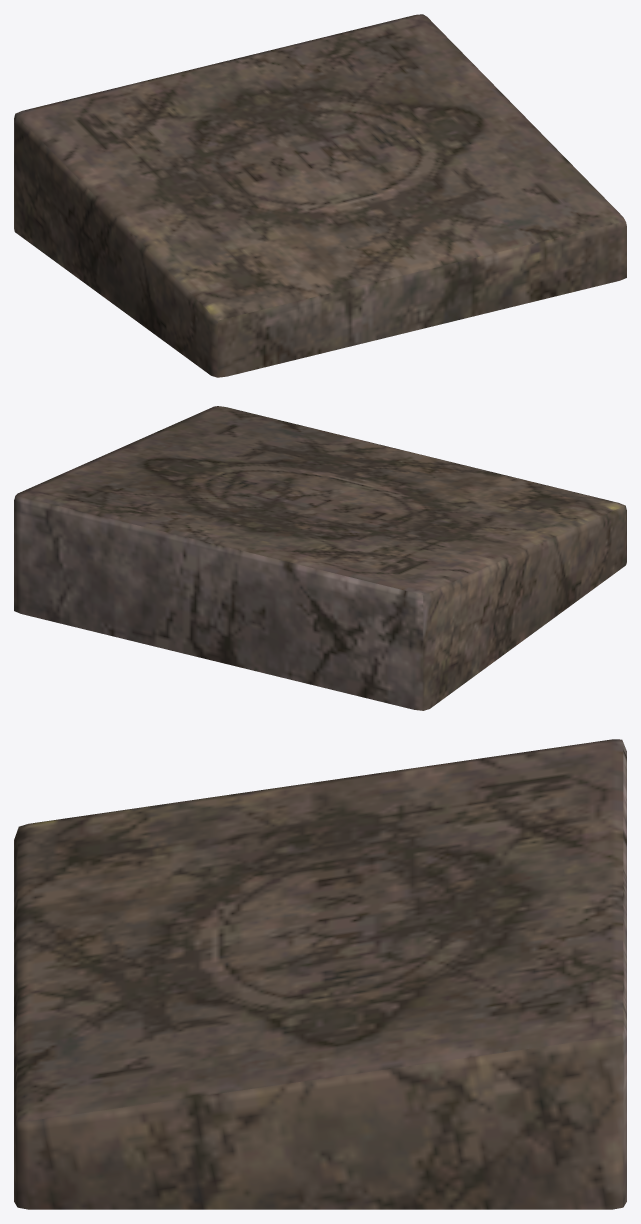
File: SM_tombstone_10.fbx
3 views of the same model, one above another, from view 1: azimuth 30°, elevation 25°; view 2: azimuth 150°, elevation 25°; view 3: azimuth 270°, elevation 25° (orthographic). The views are drawn at different scales.
Visible parts, largest first — view 1: SM_tombstone_010; view 2: SM_tombstone_010; view 3: SM_tombstone_010.
Boxes of the visible parts, x1,y1,x2,y2 form: SM_tombstone_010: (14, 14, 626, 377); SM_tombstone_010: (14, 406, 626, 710); SM_tombstone_010: (14, 739, 626, 1209).
Size of the model in its own units: 58.28 by 15.67 by 50.1.
